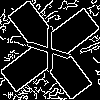X: (25, 25, 80, 82)
